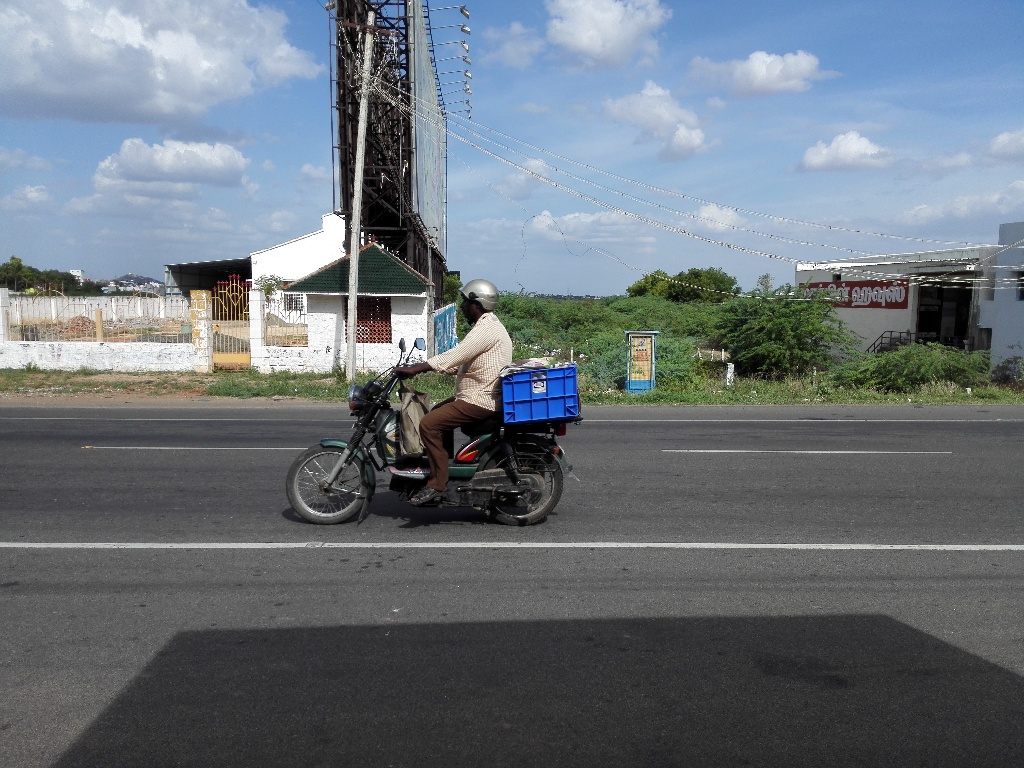biker: (268, 247, 602, 536)
helmet: (451, 271, 508, 342)
